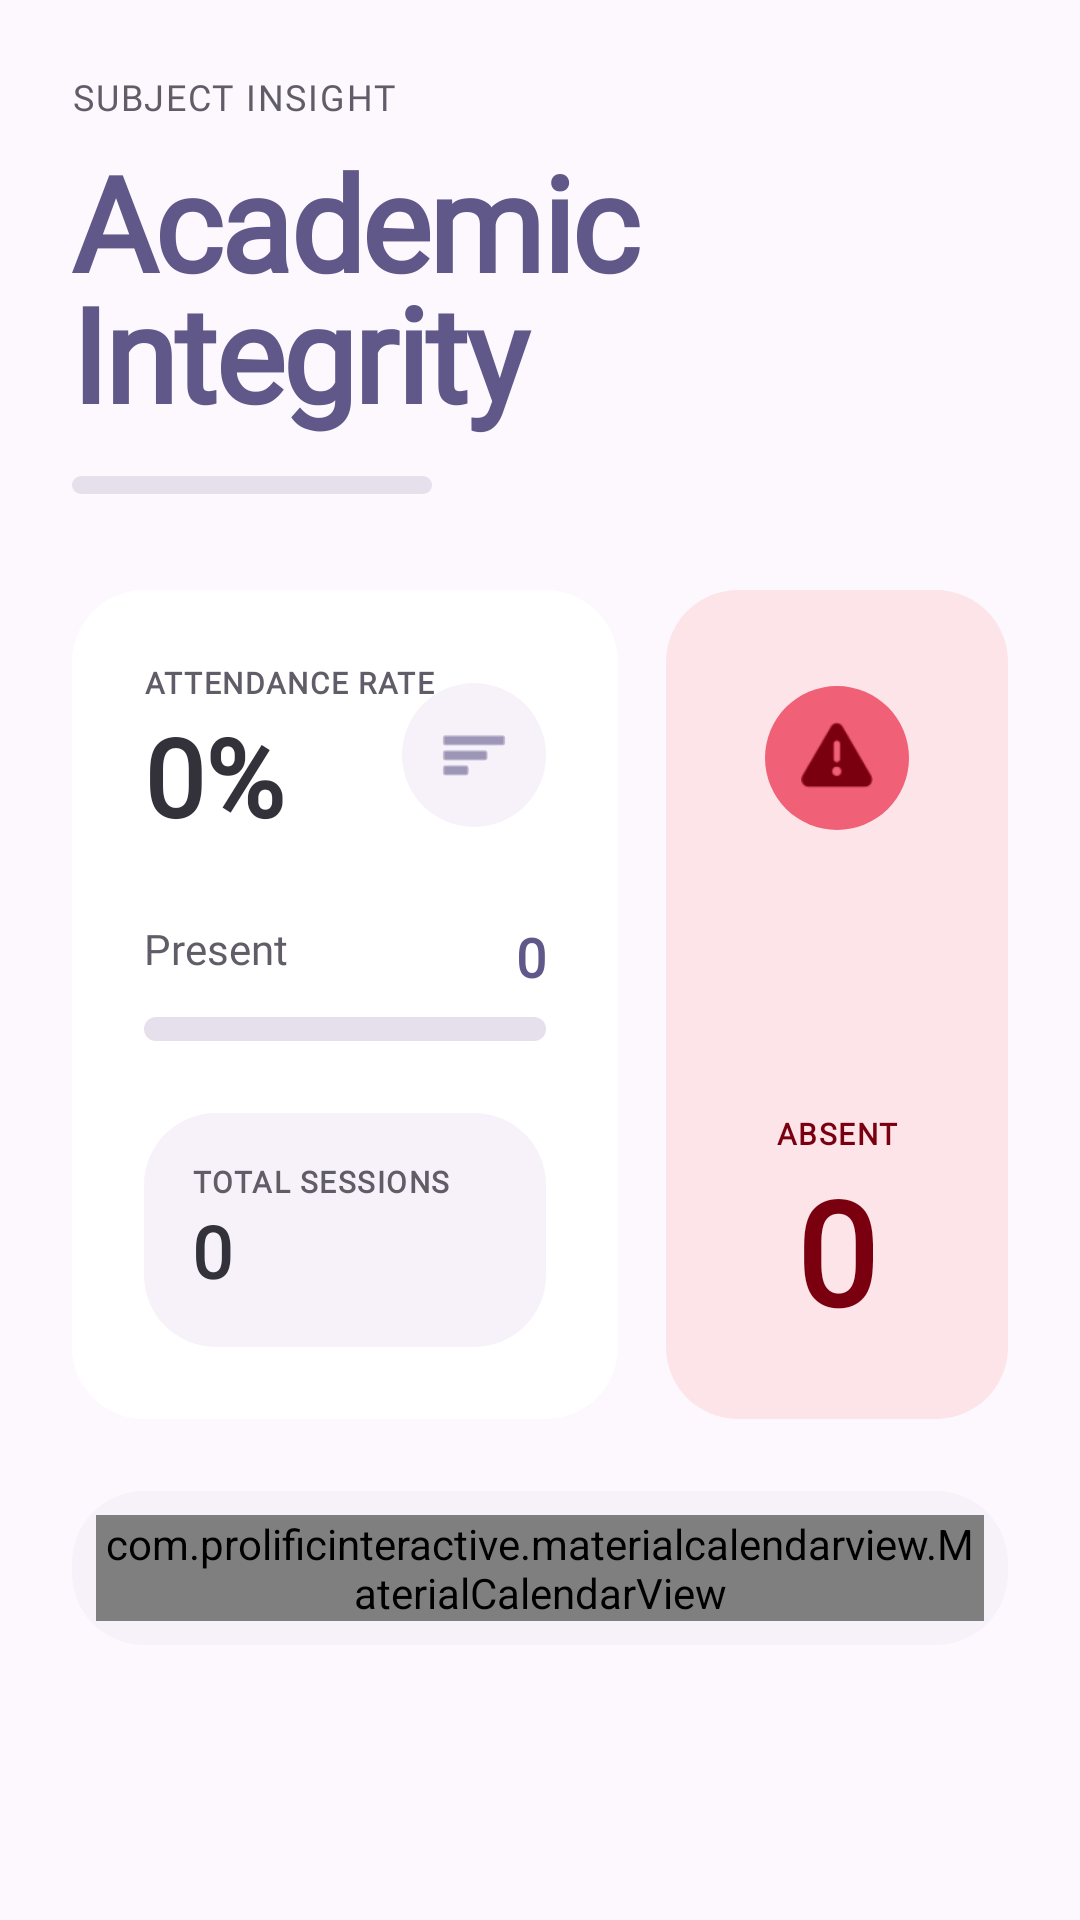

Point at icon controls on the screen. Image size 1080w x 1920h, points as (x=x, y=y).
alert: (x=837, y=755)
sort by size: (x=474, y=755)
